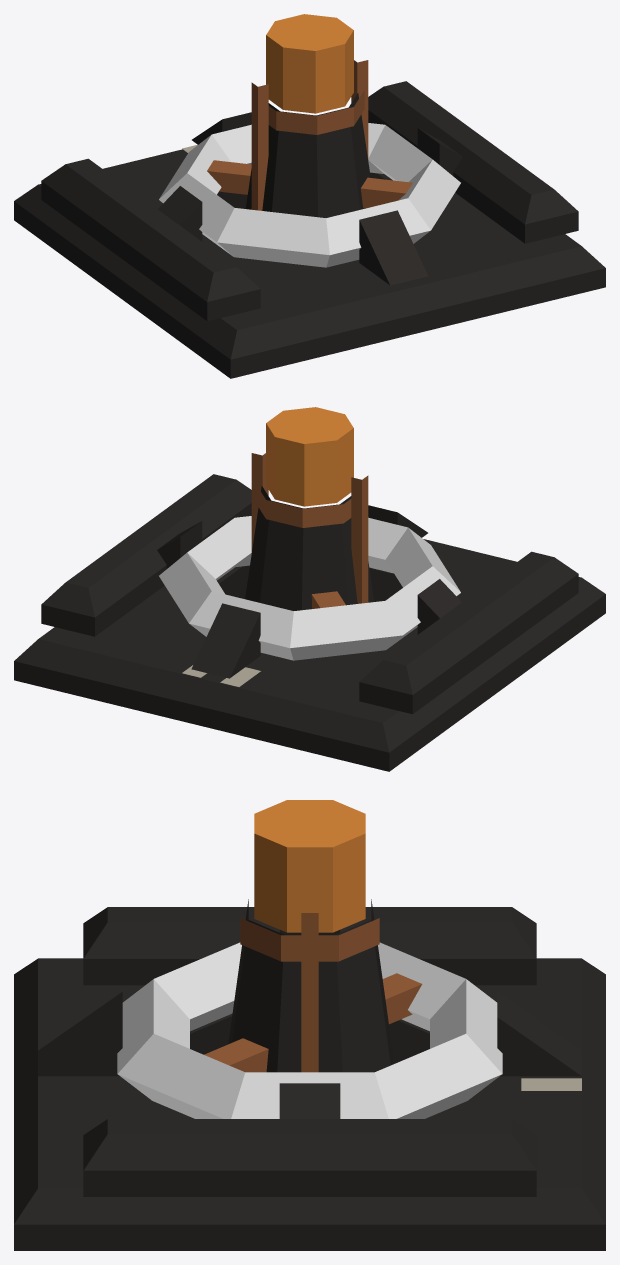
File: str_t2_mex.63741d57.raw.glb
The picture shows the model from 3 angles, top to bottom: view 1: azimuth 30°, elevation 25°; view 2: azimuth 150°, elevation 25°; view 3: azimuth 270°, elevation 25°; orthographic projection. The views are drawn at different scales.
Visible parts, largest first — view 1: lod0; view 2: lod0; view 3: lod0.
Boxes of the visible parts, x1,y1,x2,y2 form: lod0: [14, 14, 605, 378]; lod0: [14, 407, 605, 771]; lod0: [14, 800, 605, 1250].
Size of what is drawn, in the model's own units: 1.96 by 1.1 by 1.96.
